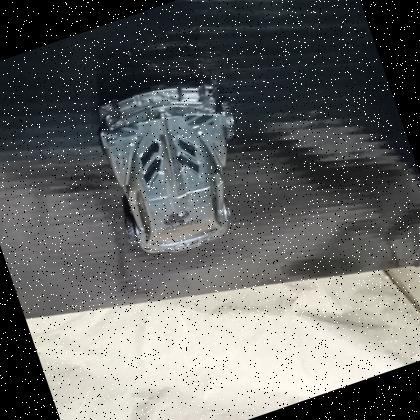Car: (76, 47, 276, 271)
